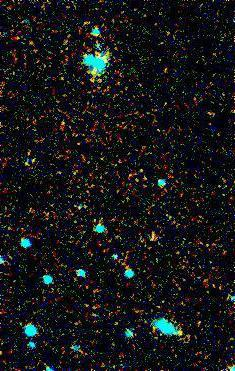star: (165, 319, 195, 349)
